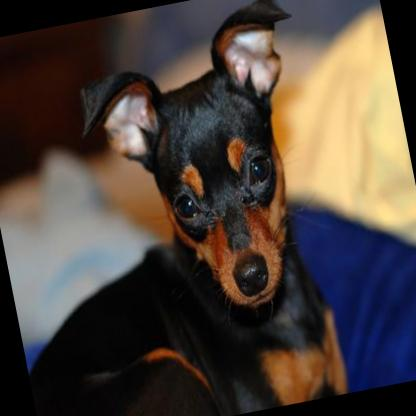miniature_pinscher: (0, 0, 363, 416)
